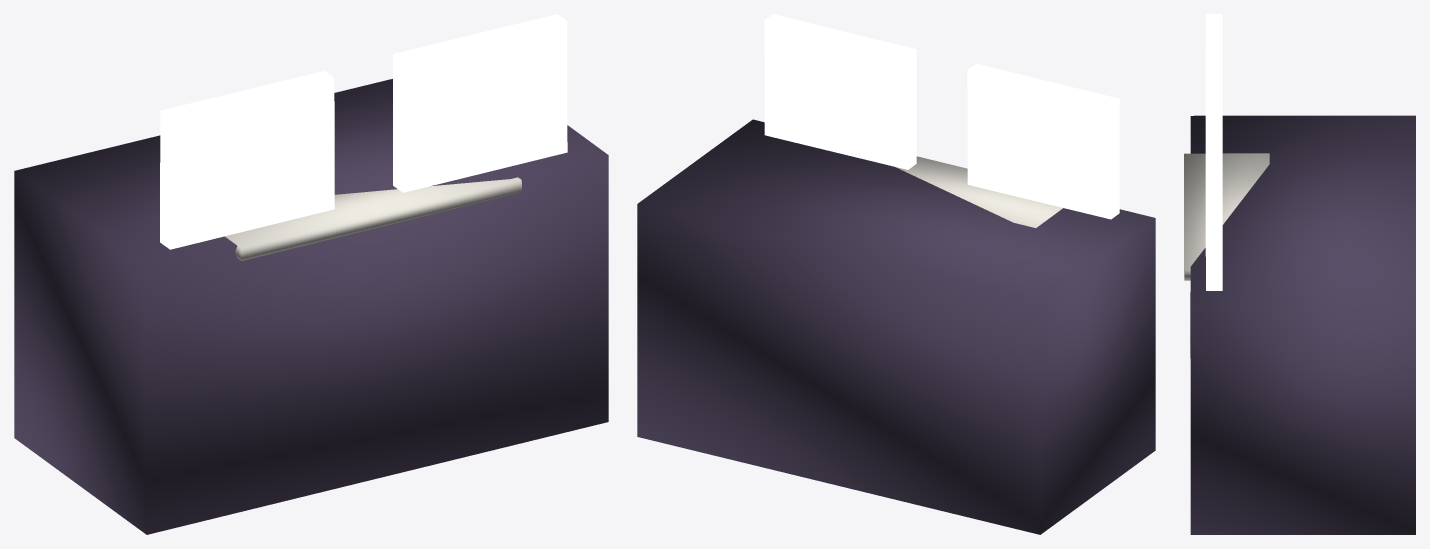
Rendered from SM_Labor_Console_LOD3.fbx.
The picture shows the model from 3 angles, left to right: view 1: azimuth 30°, elevation 25°; view 2: azimuth 150°, elevation 25°; view 3: azimuth 270°, elevation 25°; orthographic projection. The views are drawn at different scales.
Parts seen in each view (by area): view 1: SM_Labor_Console_LOD3; view 2: SM_Labor_Console_LOD3; view 3: SM_Labor_Console_LOD3.
Part boxes in pixels (left/top/right/bottom): SM_Labor_Console_LOD3: left=14, top=14, right=608, bottom=534; SM_Labor_Console_LOD3: left=637, top=14, right=1155, bottom=534; SM_Labor_Console_LOD3: left=1184, top=14, right=1415, bottom=534.
Bounding box in the file's own units: 1.79 × 1.49 × 0.9122.
